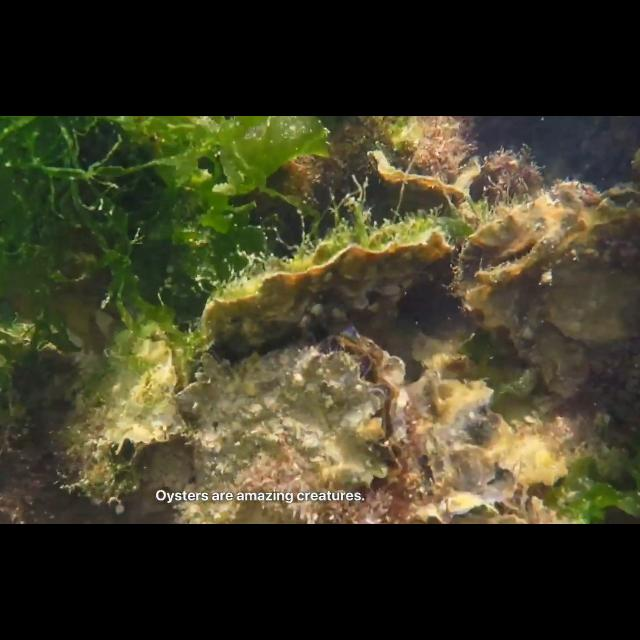Oyster-Closed: (205, 222, 463, 356)
Oyster-Open: (171, 322, 411, 524), (456, 178, 640, 398), (399, 368, 521, 516), (102, 323, 192, 457), (66, 384, 150, 496), (368, 144, 470, 214)
